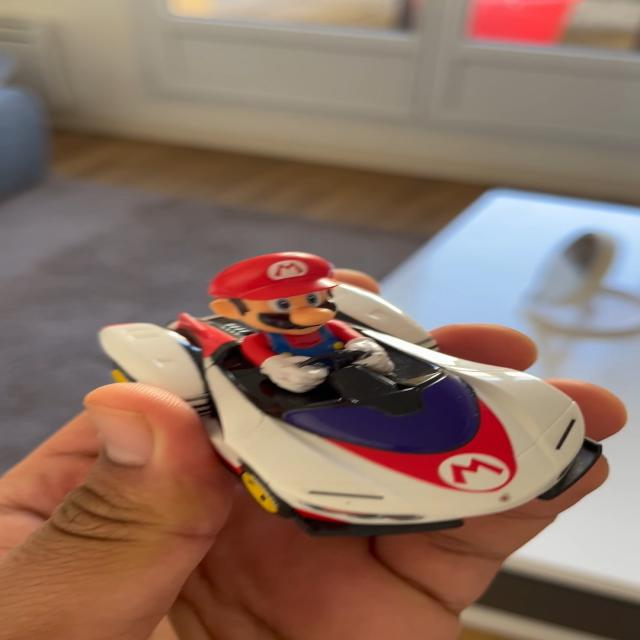mario: (77, 243, 608, 539)
